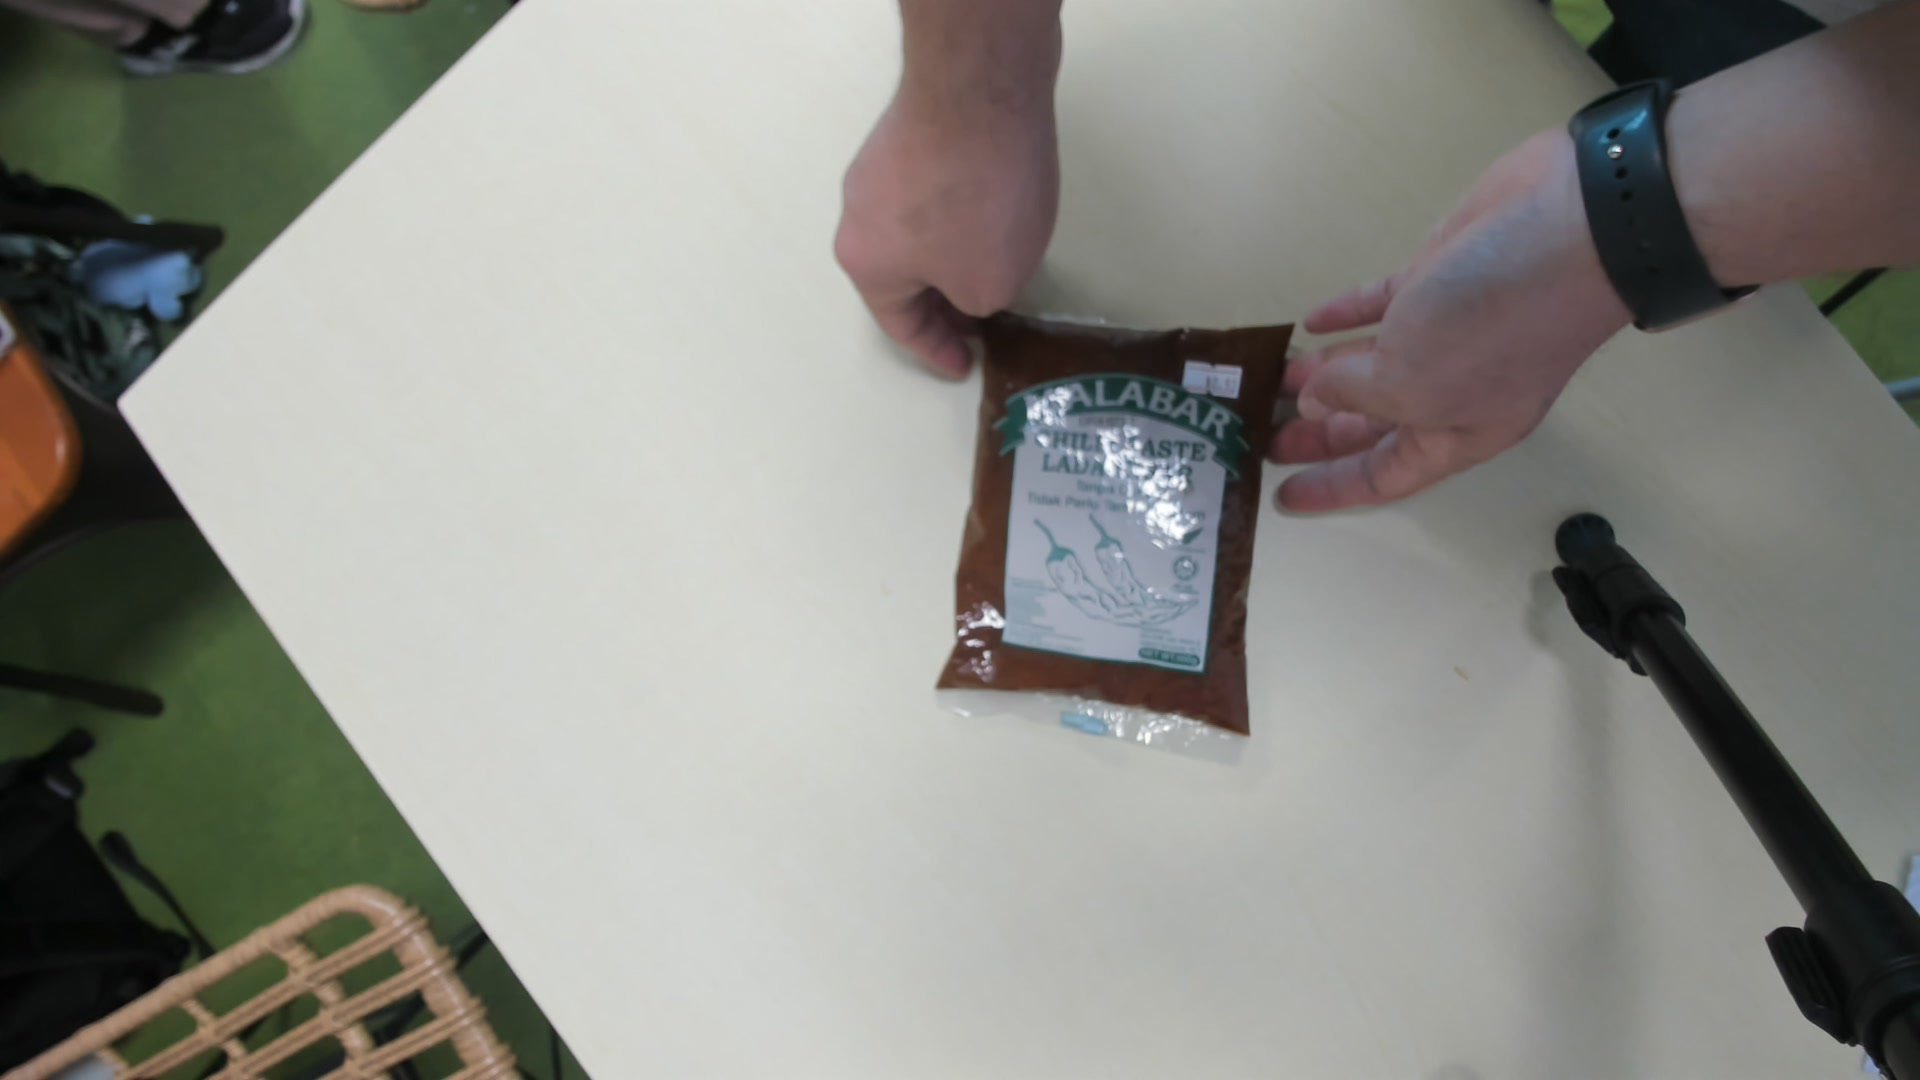OtherSauceDressingSoupbasePaste_500-599g_Halal_NonHealthy: (951, 318, 1304, 746)
